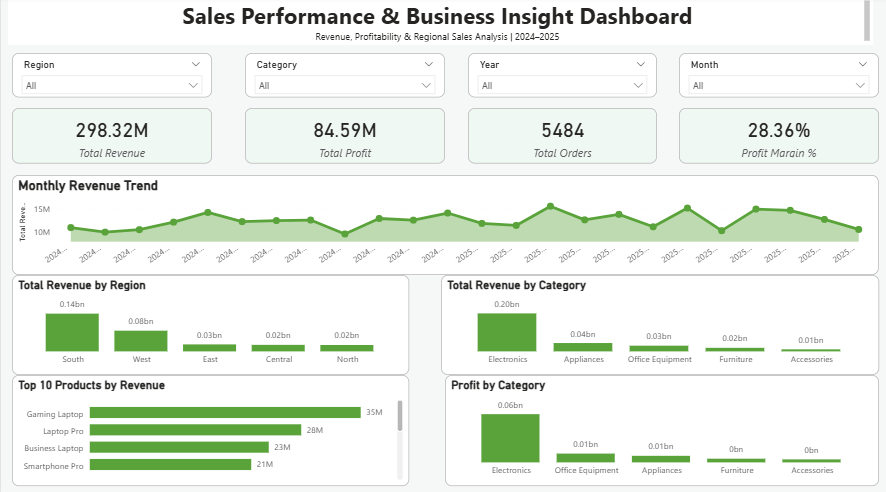

What the dashboard file says about the page in this screenshot:
{"tool":"powerbi","page":{"name":"Sales Dashboard","canvas":[1280,720],"ordinal":1},"visuals":[{"type":"textbox","box":[10.2,0,1246.8,89.3],"z":0},{"type":"card","fields":{"Values":["Raw_Sales.Total Revenue"]},"box":[101.7,165,248.3,78.3],"z":1000},{"type":"card","fields":{"Values":["Raw_Sales.Total Profit"]},"box":[391.7,165,248.3,78.3],"z":2000},{"type":"card","fields":{"Values":["Raw_Sales.Total Orders"]},"box":[668.3,165,250,93.3],"z":3000},{"type":"card","fields":{"Values":["Raw_Sales.Profit Margin %"]},"box":[940,165,246.7,93.3],"z":4000},{"type":"lineChart","title":"Monthly Revenue Trend","fields":{"Category":["DateTable.Year Month"],"Y":["Raw_Sales.Total Revenue"]},"box":[100,253.3,1085,130],"z":5000},{"type":"clusteredColumnChart","fields":{"Category":["Regions.Region"],"Y":["Raw_Sales.Total Revenue"]},"box":[100,382.5,500,165],"z":6000},{"type":"clusteredColumnChart","fields":{"Category":["Products.Category"],"Y":["Raw_Sales.Total Revenue"]},"box":[687.5,382.5,497.5,165],"z":7000},{"type":"clusteredBarChart","fields":{"Category":["Products.Product_Name"],"Y":["Raw_Sales.Total Revenue"]},"box":[100,567.5,500,152.5],"z":8000},{"type":"clusteredColumnChart","title":"Profit by Category","fields":{"Category":["Products.Category"],"Y":["Raw_Sales.Total Profit"]},"box":[687.5,567.5,497.5,152.5],"z":9000},{"type":"slicer","fields":{"Values":["Regions.Region"]},"box":[100,88.3,250,65],"z":10000},{"type":"slicer","fields":{"Values":["Products.Category"]},"box":[391.7,88.3,251.7,65],"z":11000},{"type":"slicer","fields":{"Values":["DateTable.Year"]},"box":[668.3,91.7,250,58.3],"z":12000},{"type":"slicer","fields":{"Values":["DateTable.Month"]},"box":[936.7,88.3,250,58.3],"z":13000}]}

Visuals, with their boxes in screenshot pixels (x1, y1, x2, y2), scaled from the page's 1280x720 canvas onto the 886x492 screenshot:
textbox: box(7, 0, 870, 61)
card - Raw_Sales.Total Revenue: box(70, 113, 242, 166)
card - Raw_Sales.Total Profit: box(271, 113, 443, 166)
card - Raw_Sales.Total Orders: box(463, 113, 636, 177)
card - Raw_Sales.Profit Margin %: box(651, 113, 821, 177)
"Monthly Revenue Trend" lineChart: box(69, 173, 820, 262)
clusteredColumnChart - Regions.Region x Raw_Sales.Total Revenue: box(69, 261, 415, 374)
clusteredColumnChart - Products.Category x Raw_Sales.Total Revenue: box(476, 261, 820, 374)
clusteredBarChart - Products.Product_Name x Raw_Sales.Total Revenue: box(69, 388, 415, 491)
"Profit by Category" clusteredColumnChart: box(476, 388, 820, 491)
slicer - Regions.Region: box(69, 60, 242, 105)
slicer - Products.Category: box(271, 60, 445, 105)
slicer - DateTable.Year: box(463, 63, 636, 102)
slicer - DateTable.Month: box(648, 60, 821, 100)
